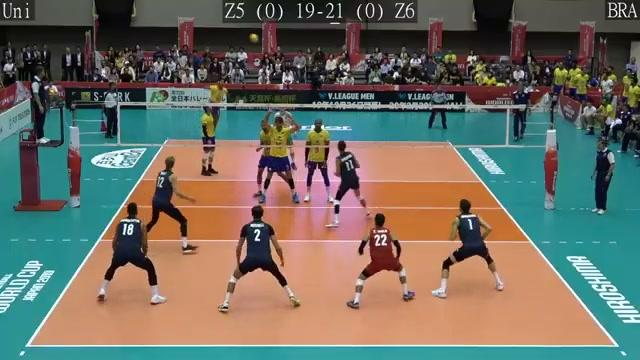ball: (248, 33, 259, 43)
